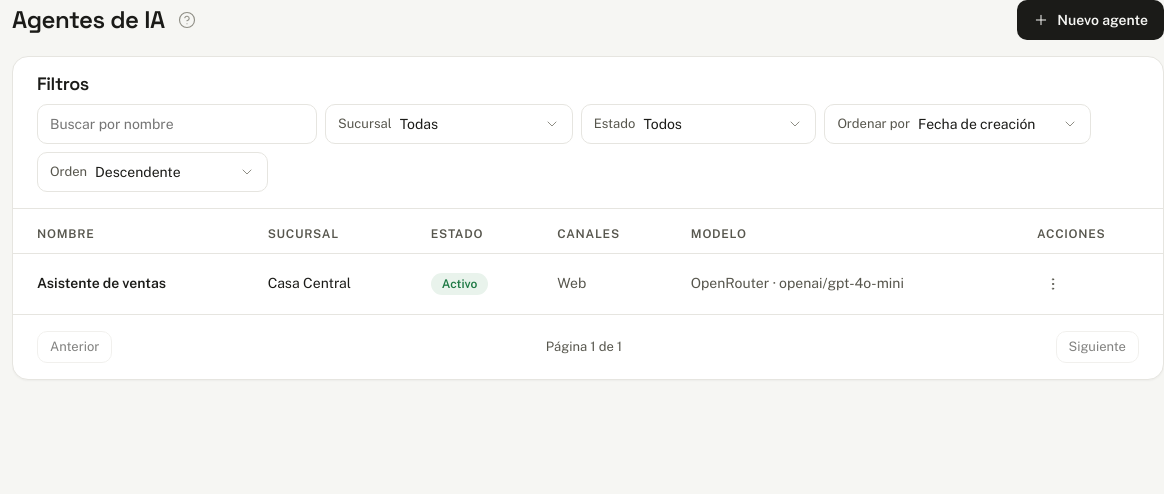
Test: AgentListPage › eliminar › un DELETE fallido muestra el mensaje del backend tal cual, y la fila sigue ahí
Check: the text "Asistente de ventas" is shown, box [13, 253, 252, 314]
Click the button named "Más acciones": (1053, 284) [1037, 268, 1069, 300]
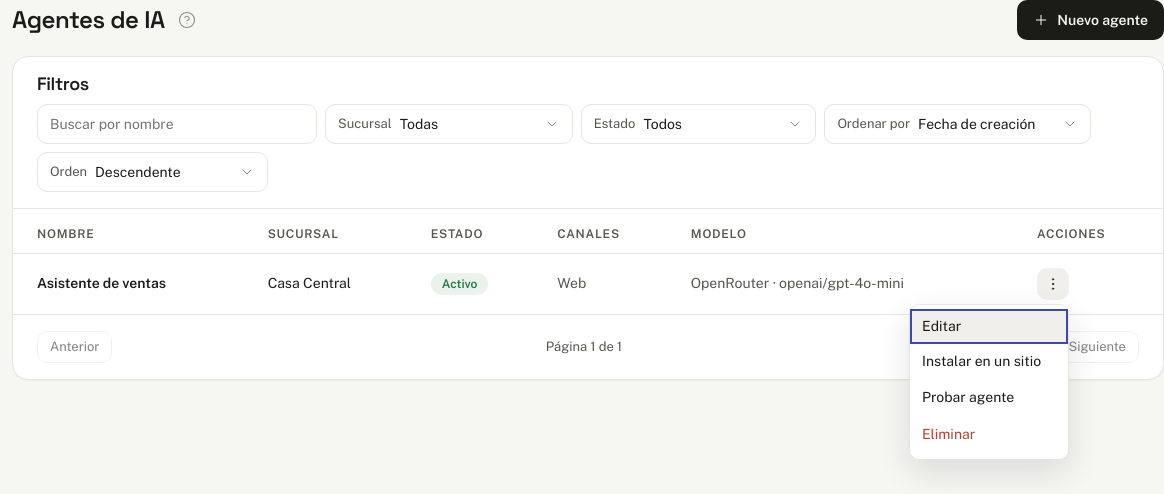
Click the menu item "Eliminar": (989, 435) [910, 415, 1068, 455]
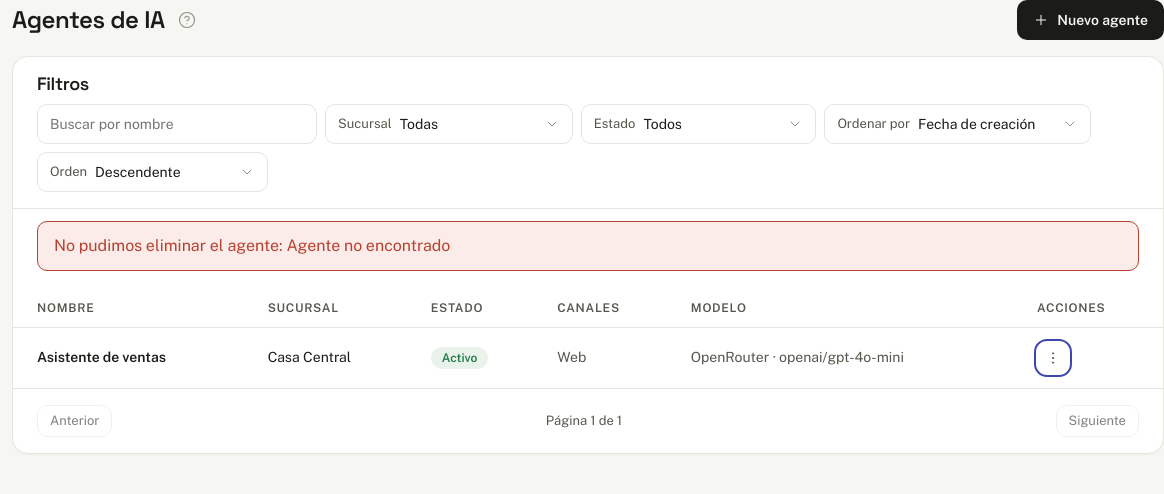
Check: the text "Asistente de ventas" is shown, box [13, 327, 252, 388]
Check: the message shows "Agente no encontrado", box [279, 236, 450, 254]
